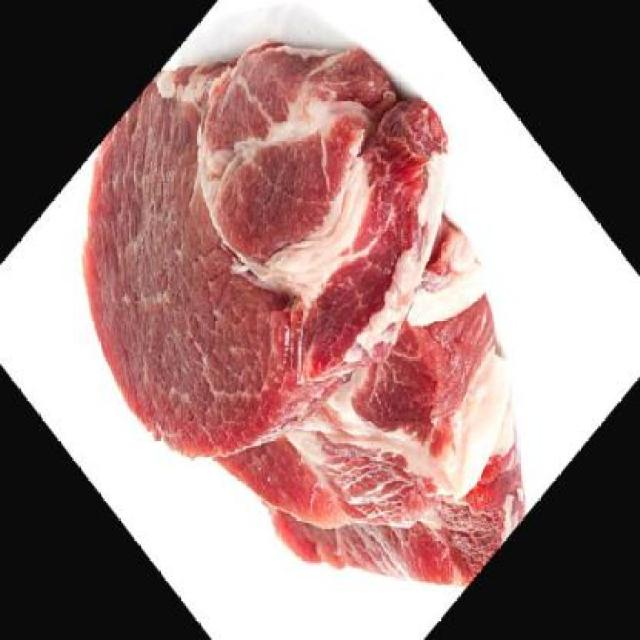beef: (6, 0, 639, 638)
